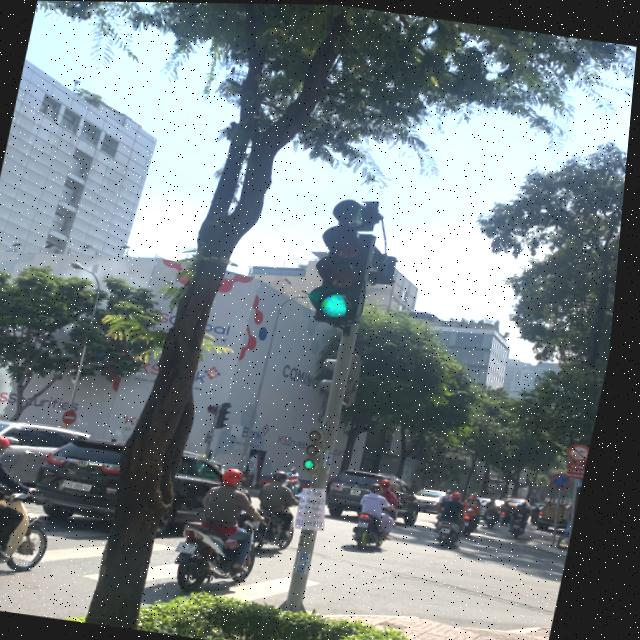Green: (304, 224, 384, 328), (299, 421, 340, 472)
